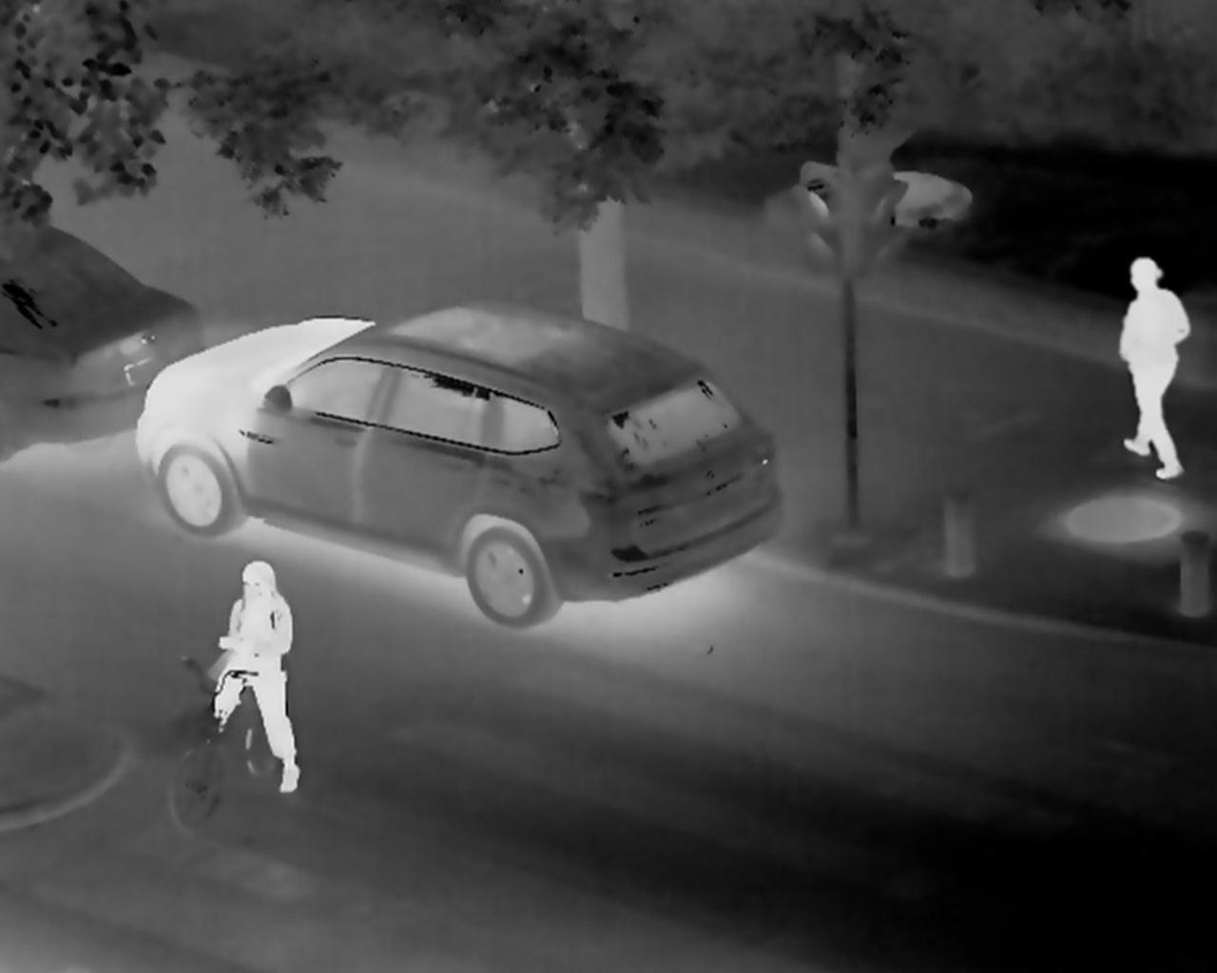person: (210, 552, 305, 797), (1100, 251, 1191, 484)
